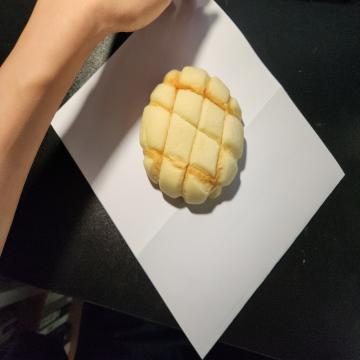melon_bread: (138, 63, 246, 210)
